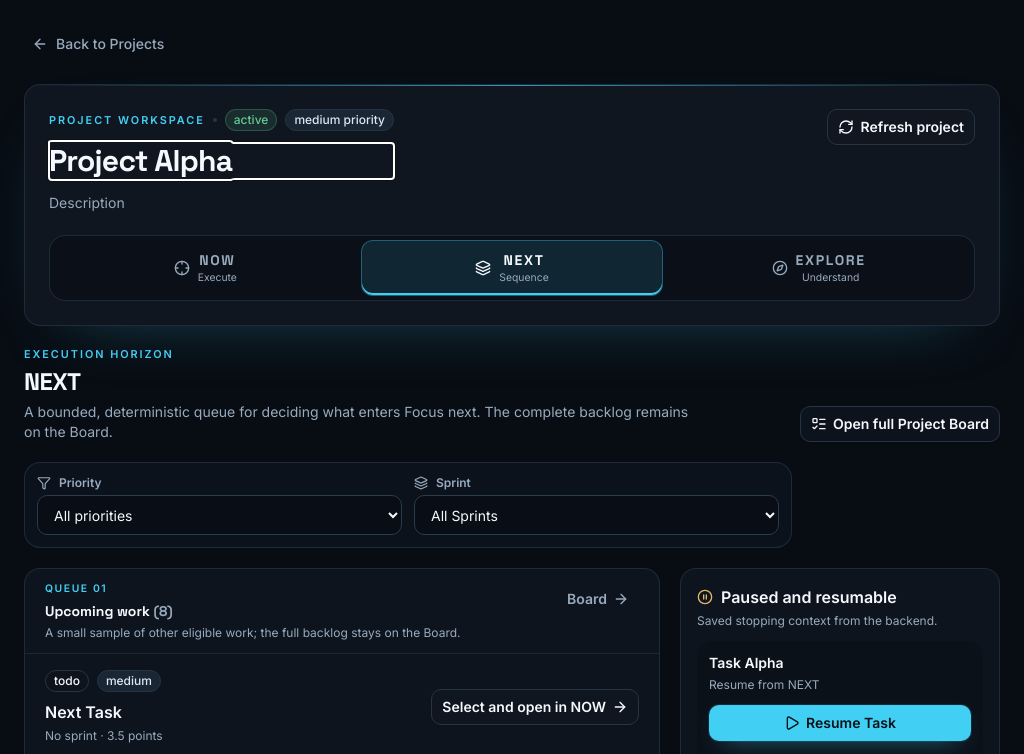
Test: Focus execution (mocked HTTP/jsdom, not a live backend/browser) › shows a bounded NEXT horizon and resumes an exact paused session
Check: the text "Resume from NEXT" is shown, box [709,677,819,692]
What coordinates should you click on to do the following:
click the button "Resume Task"
I would click on:
 (840, 723)
Its box is [709,705,971,741].
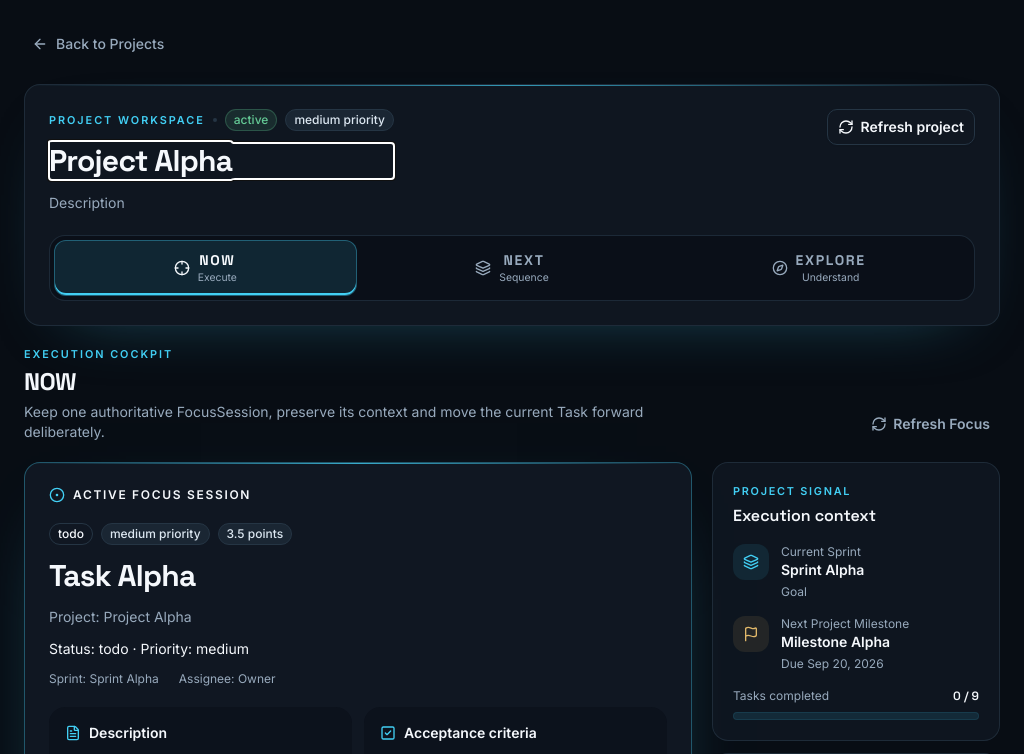
Check: the text "active Focus session" is shown, box [49,487,251,503]
